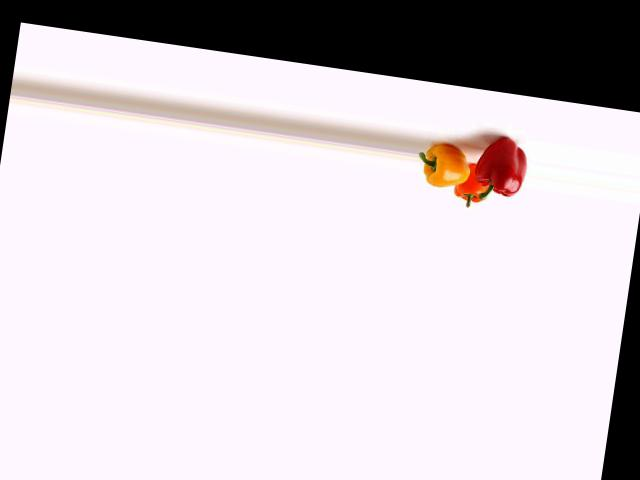bell_pepper: (468, 127, 532, 211)
